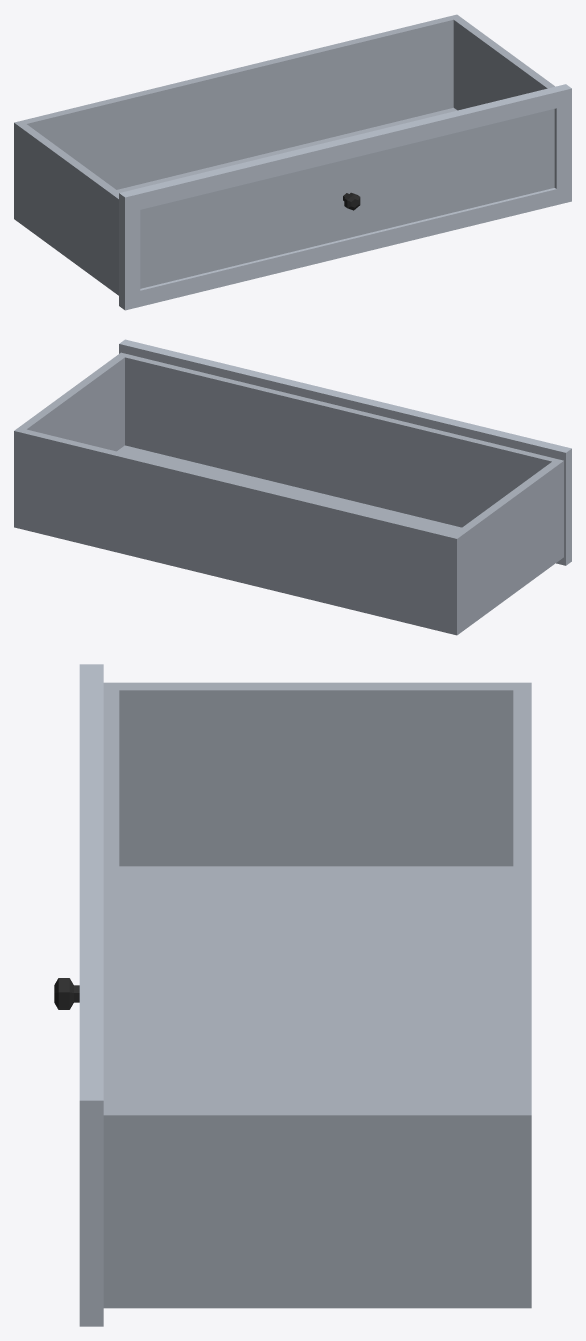
Rendered from Dresser4_C1_02.fbx.
3 views of the same model, one above another, from view 1: azimuth 30°, elevation 25°; view 2: azimuth 150°, elevation 25°; view 3: azimuth 270°, elevation 25° (orthographic). The views are drawn at different scales.
Parts seen in each view (by area): view 1: Dresser4_C1_02; view 2: Dresser4_C1_02; view 3: Dresser4_C1_02.
Boxes of the visible parts, left/top/right/bottom form: Dresser4_C1_02: left=14, top=14, right=571, bottom=310; Dresser4_C1_02: left=14, top=339, right=571, bottom=635; Dresser4_C1_02: left=54, top=664, right=531, bottom=1326.
Size of the model in its own units: 85.7 by 20.7 by 39.65.
